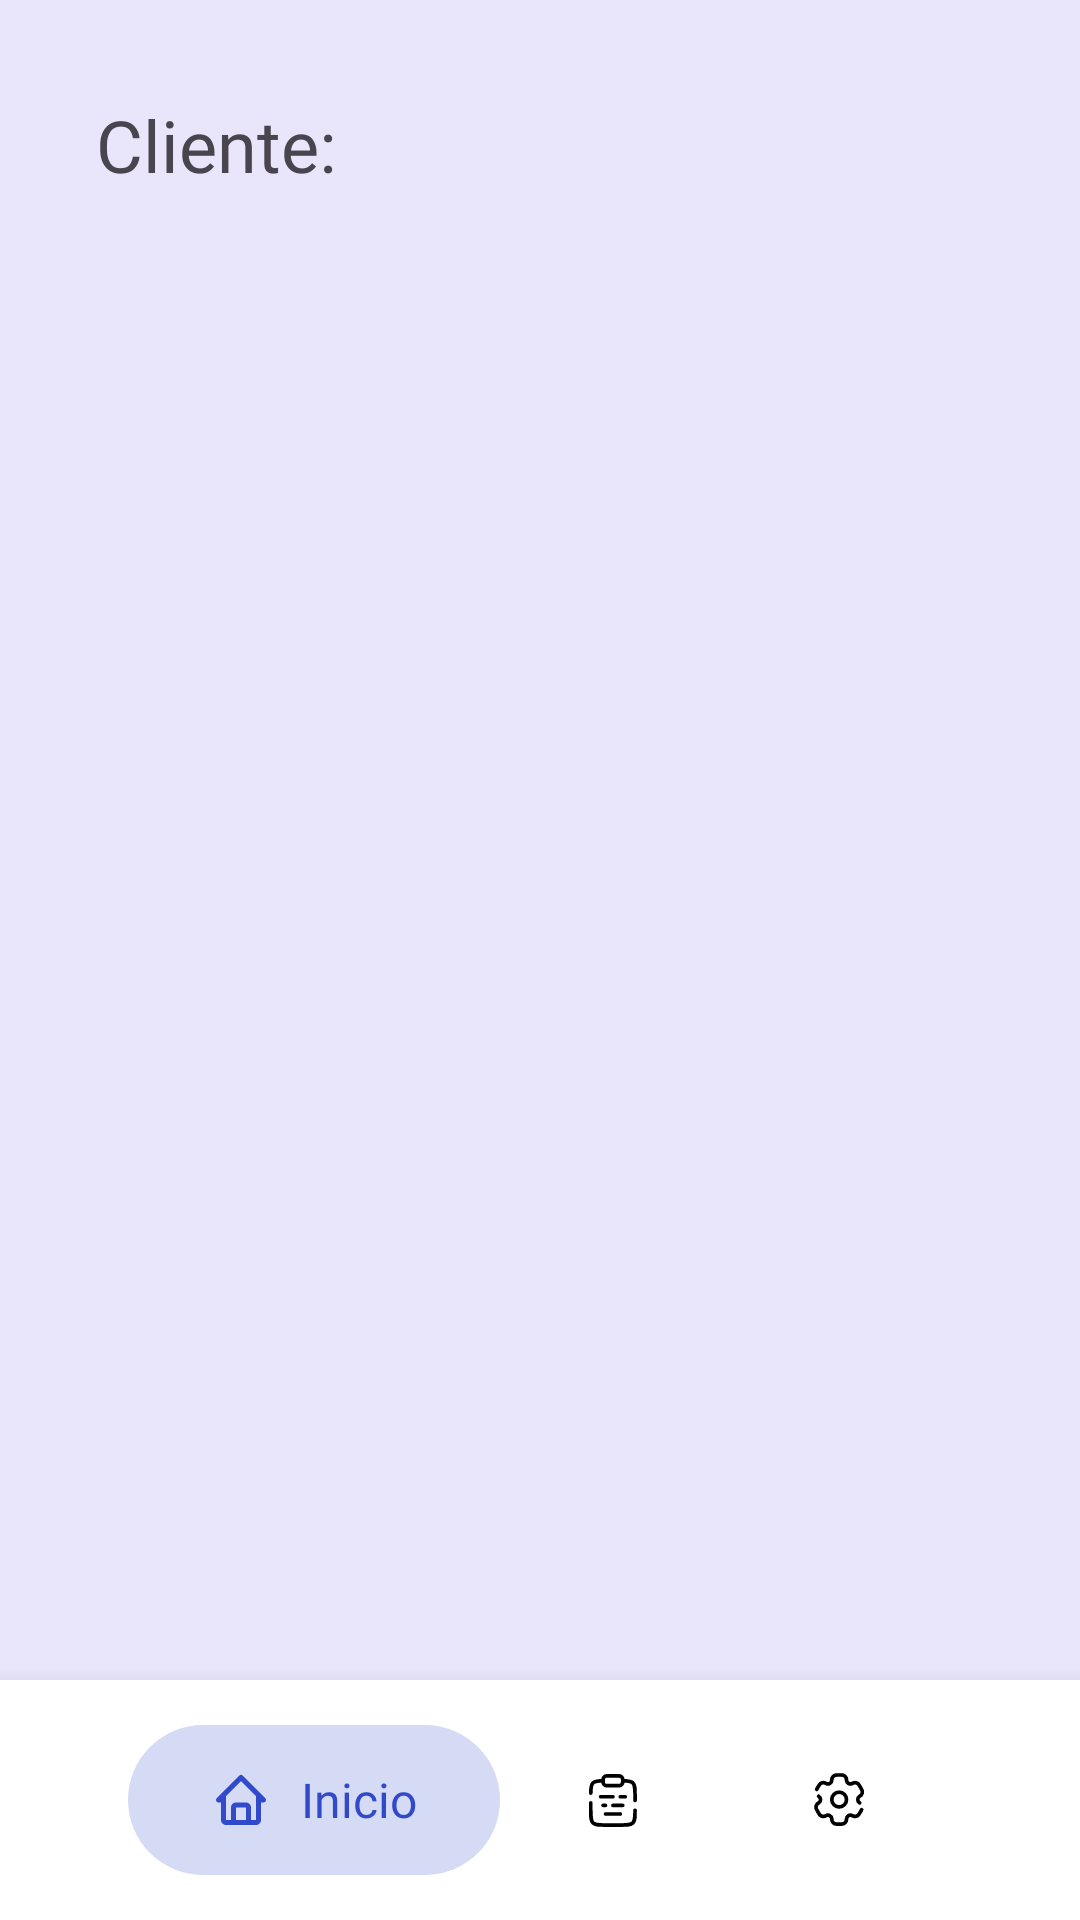

Screen size 1080×1920. Icon name, then its center in pixels as point (x, y):
home: point (241, 1800)
orders: point (613, 1800)
setting: point (839, 1799)
